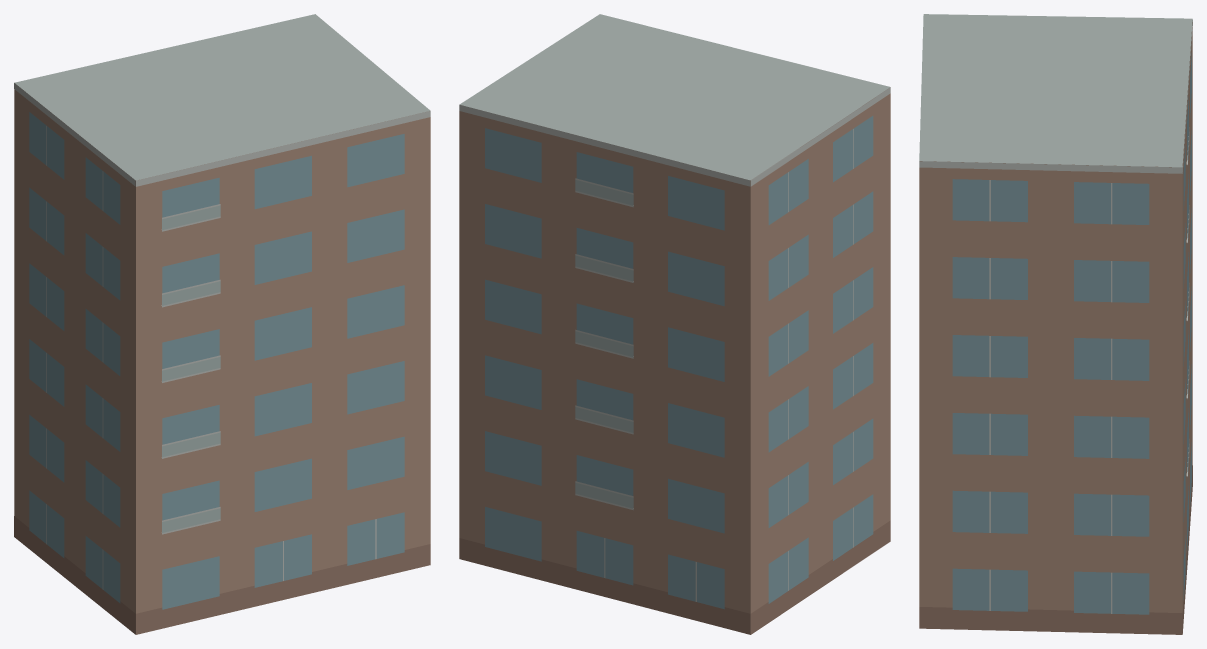
The model's file is survey-upis-32971147.glb.
3 renders of one model, left to right at view 1: azimuth 30°, elevation 25°; view 2: azimuth 150°, elevation 25°; view 3: azimuth 270°, elevation 25°, orthographic. The views are drawn at different scales.
Parts seen in each view (by area): view 1: survey-upis-32971147.tmp; view 2: survey-upis-32971147.tmp; view 3: survey-upis-32971147.tmp.
Boxes of the visible parts, left/top/right/bottom form: survey-upis-32971147.tmp: left=14, top=14, right=430, bottom=634; survey-upis-32971147.tmp: left=459, top=14, right=890, bottom=634; survey-upis-32971147.tmp: left=919, top=14, right=1192, bottom=634.
Size of the model in its own units: 12.43 by 17.65 by 9.37.
